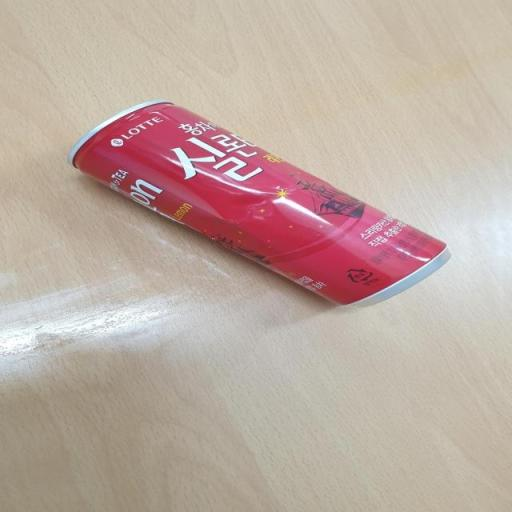metal: (54, 87, 496, 346)
